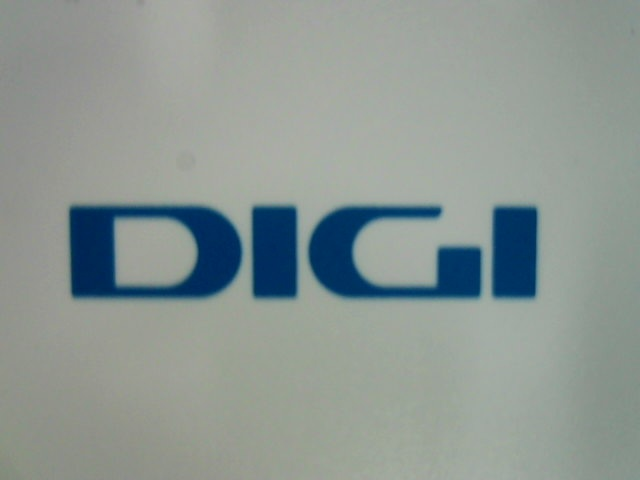BL_DIGI: (39, 190, 544, 313)
